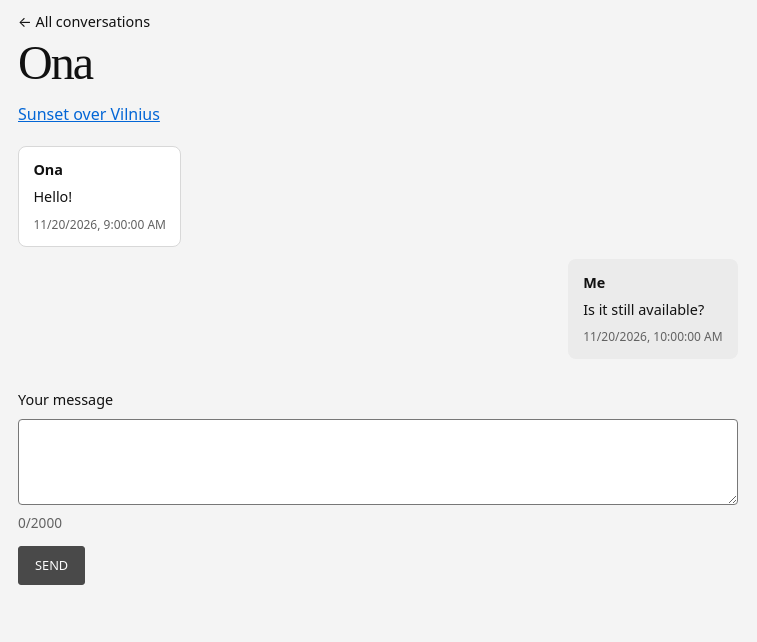
Test: conversation page › shows why sending failed and keeps the typed message
Type "Hello" into the text box labelled "Your message" at (378, 462), box x1=18 y1=419 x2=738 y2=505
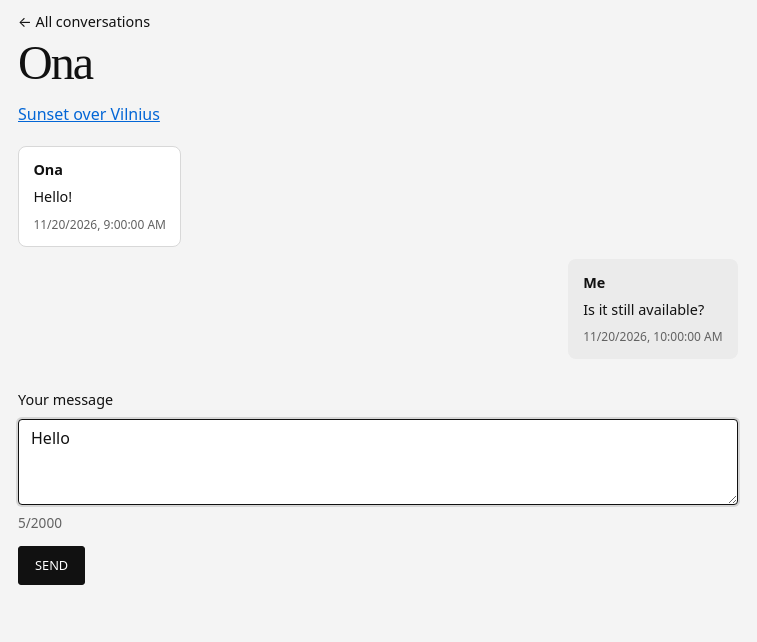
Click the button "Send" at (52, 565), box x1=18 y1=546 x2=85 y2=585
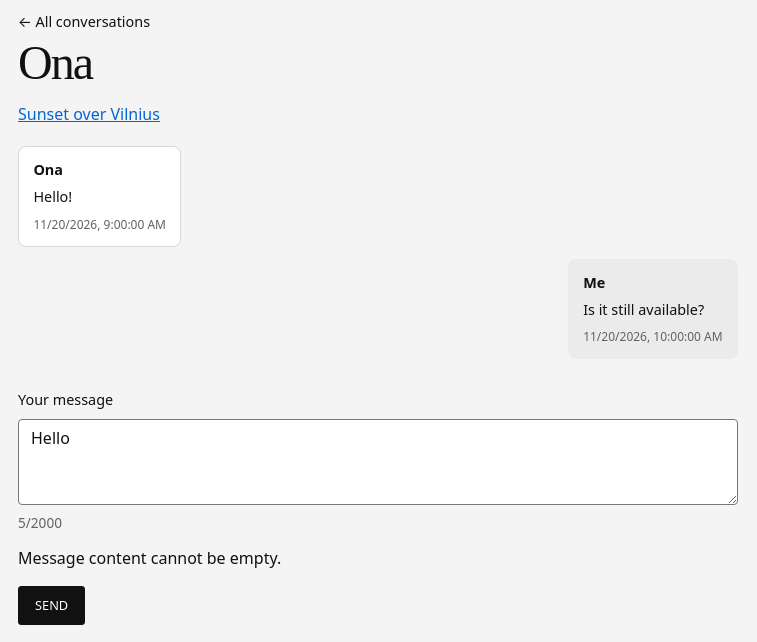
Check: the button "Send" is enabled, box x1=18 y1=586 x2=85 y2=625
Check: the message reads "Message content cannot be empty.", box x1=18 y1=547 x2=281 y2=569
